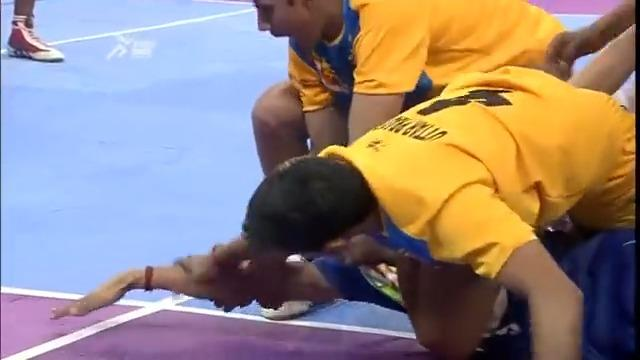Player: (249, 0, 635, 174)
Raider: (49, 63, 636, 358)
